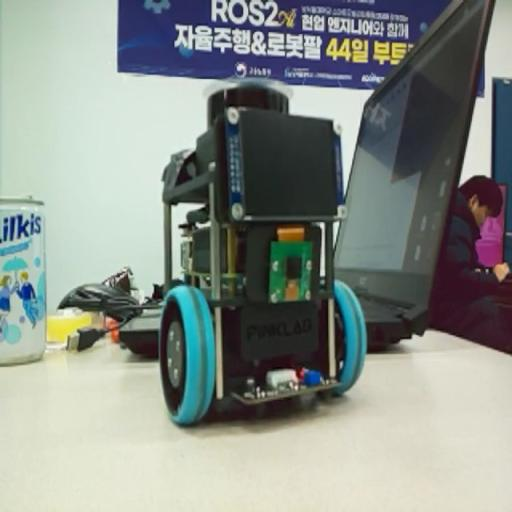pinky_63: (152, 74, 372, 425)
